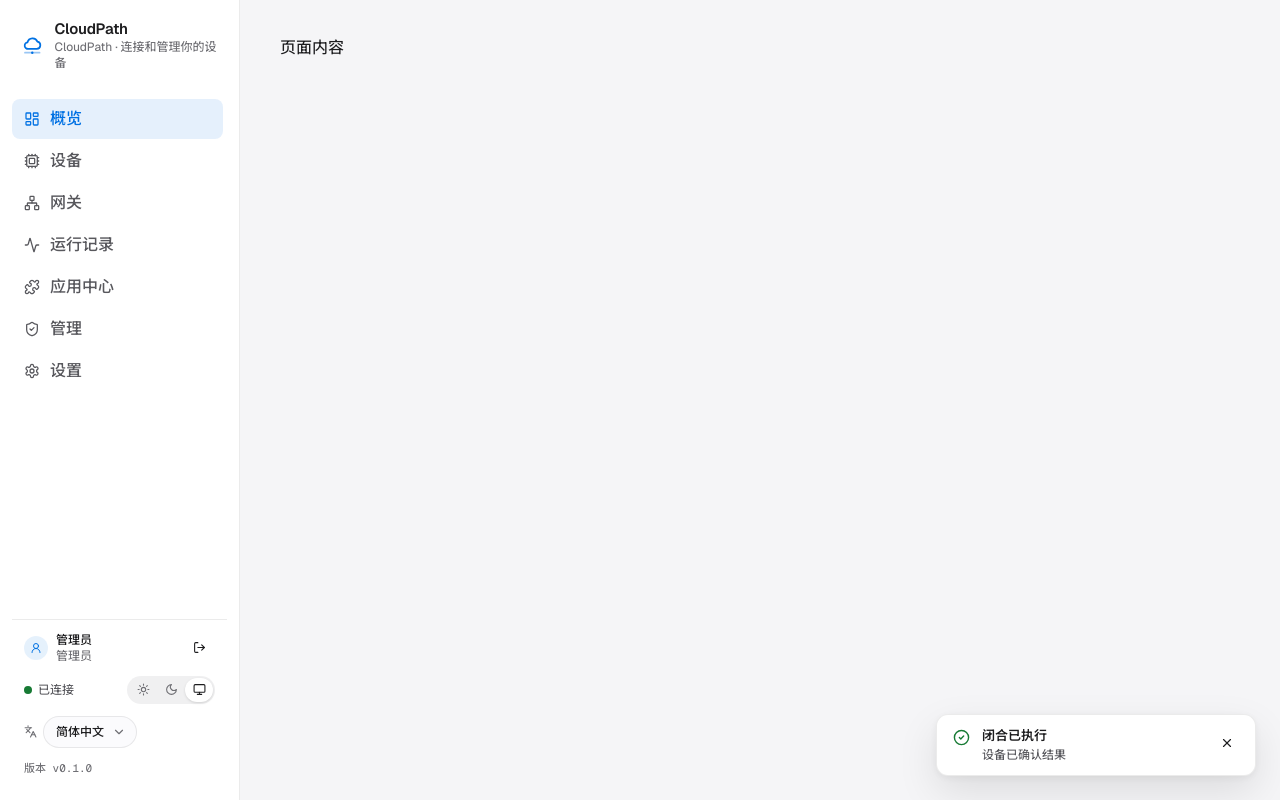
Scenario: 轻提示播报区 › 是 role=status + aria-live=polite 的礼貌播报区，关闭是独立的可读按钮
Expected: the text "闭合已执行" is shown, [982, 727, 1047, 744]
Expected: the text "设备已确认结果" is shown, [982, 747, 1066, 763]
Click the button named "关闭提示：闭合已执行". click: x=1227, y=743
box: [1211, 727, 1243, 759]
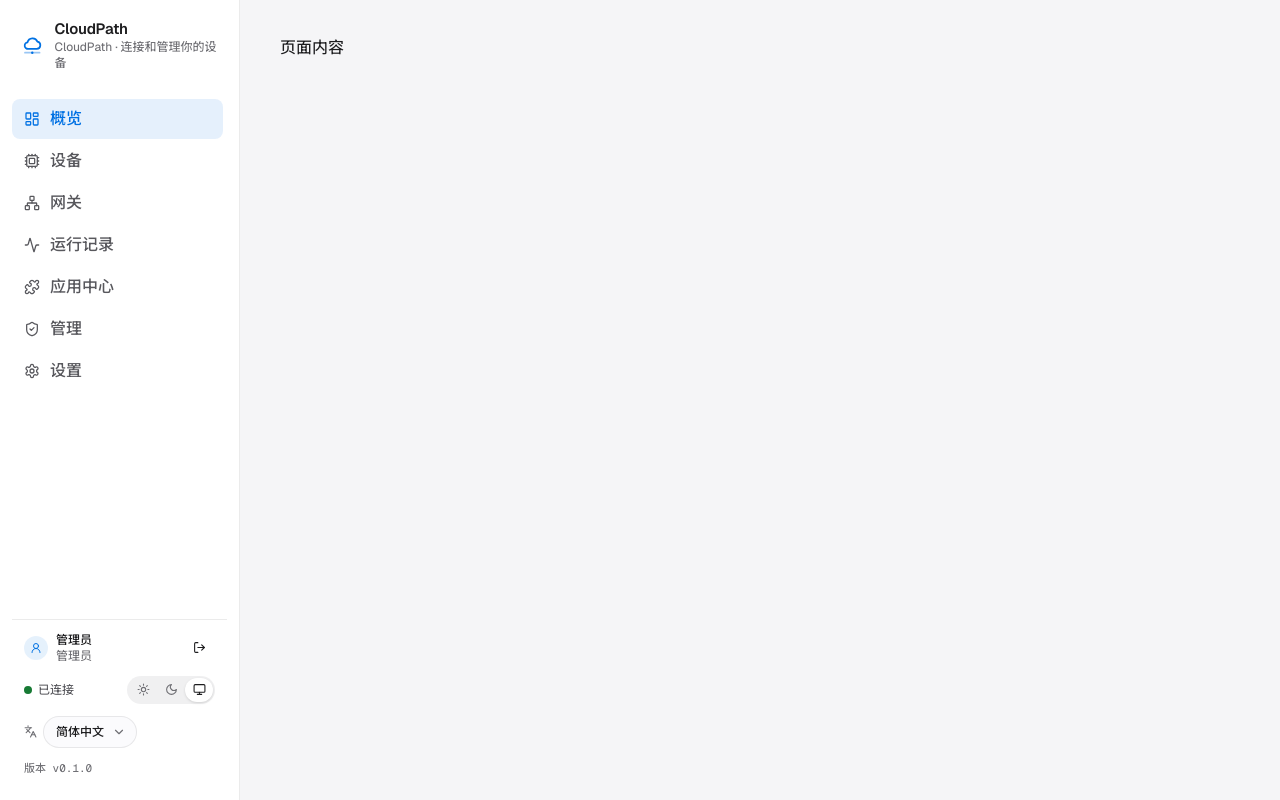
Now the text "闭合已执行" is gone
